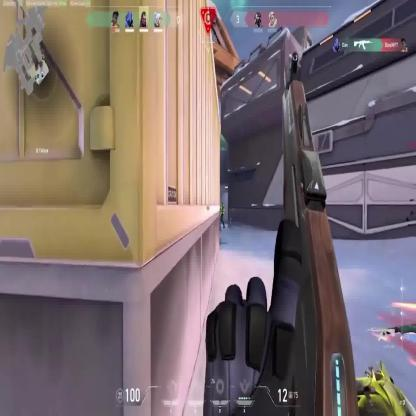enemy: (220, 201, 225, 228)
enemy_head: (221, 202, 224, 206)
